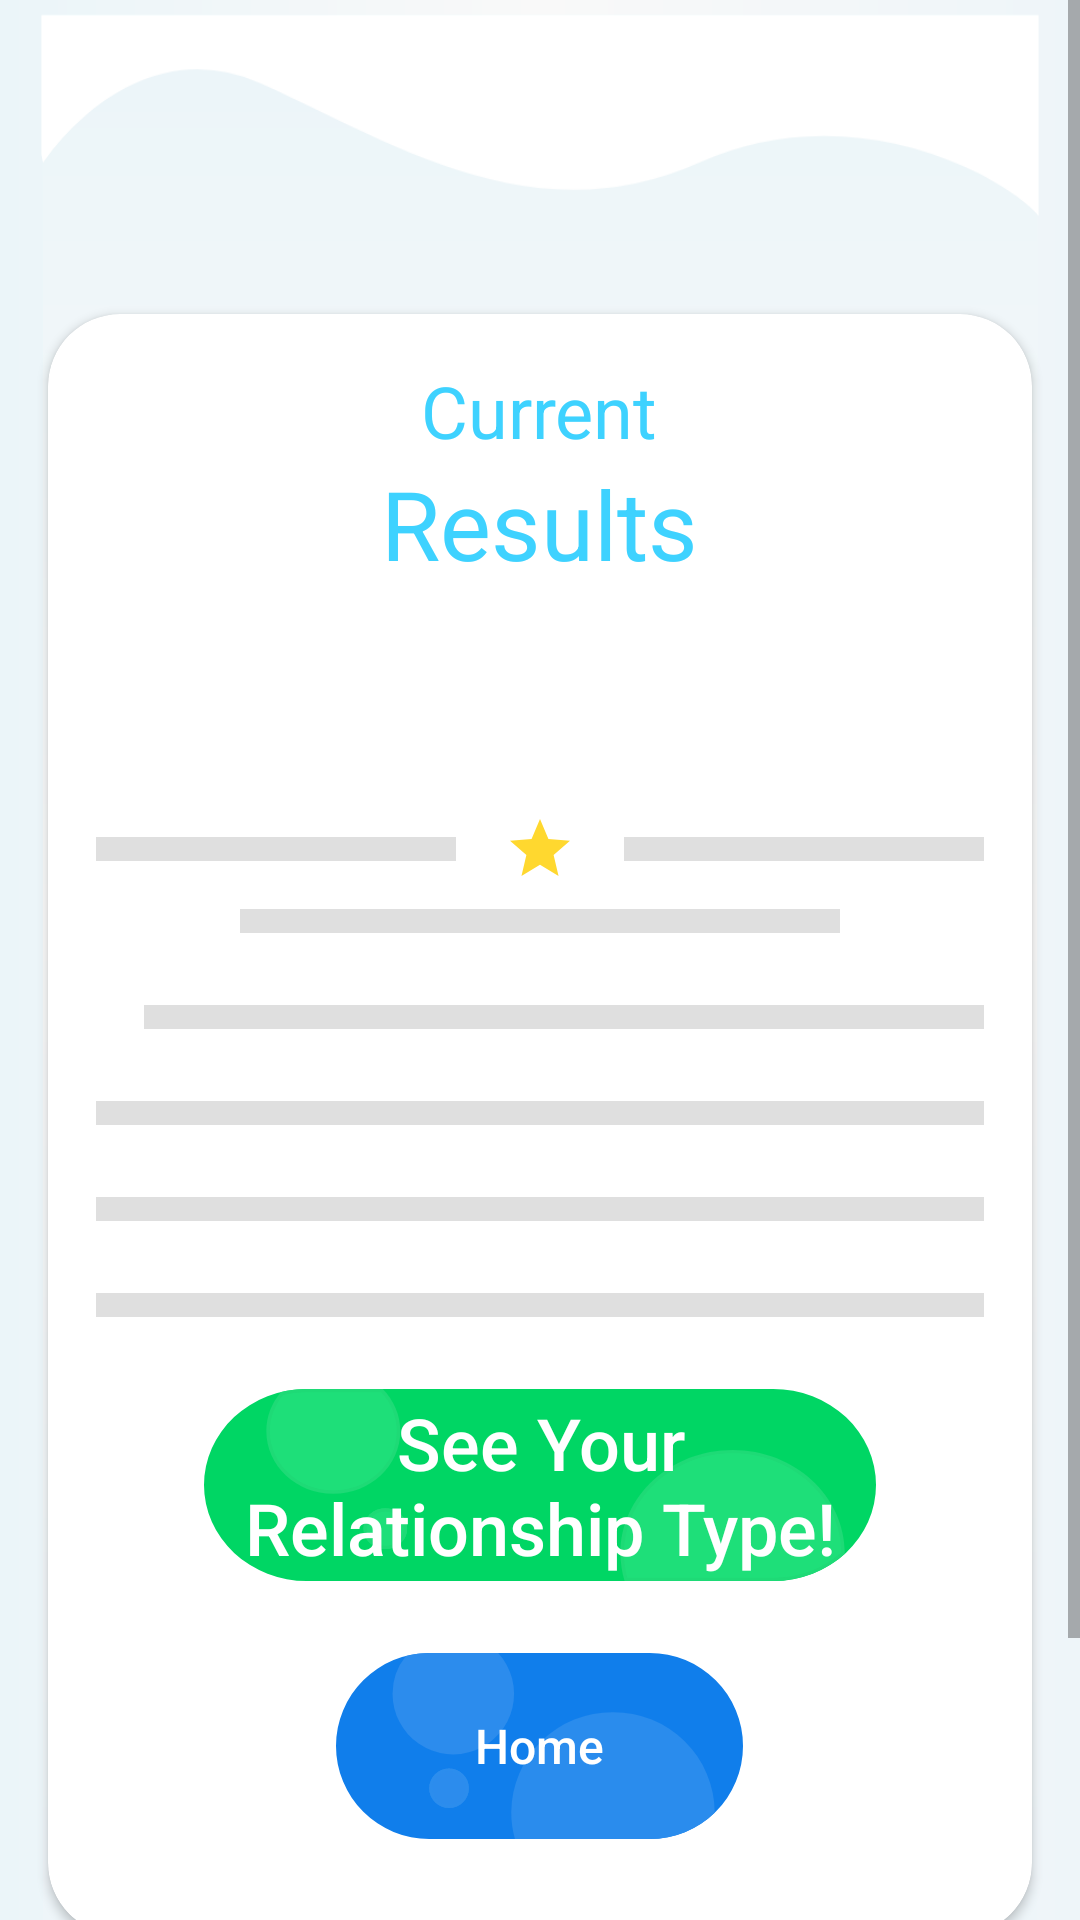

Named icons in this screenshot (1080 x 1920) and their bounding boxes, (x1,y1,x2,y2):
star: (510,819,570,876)
